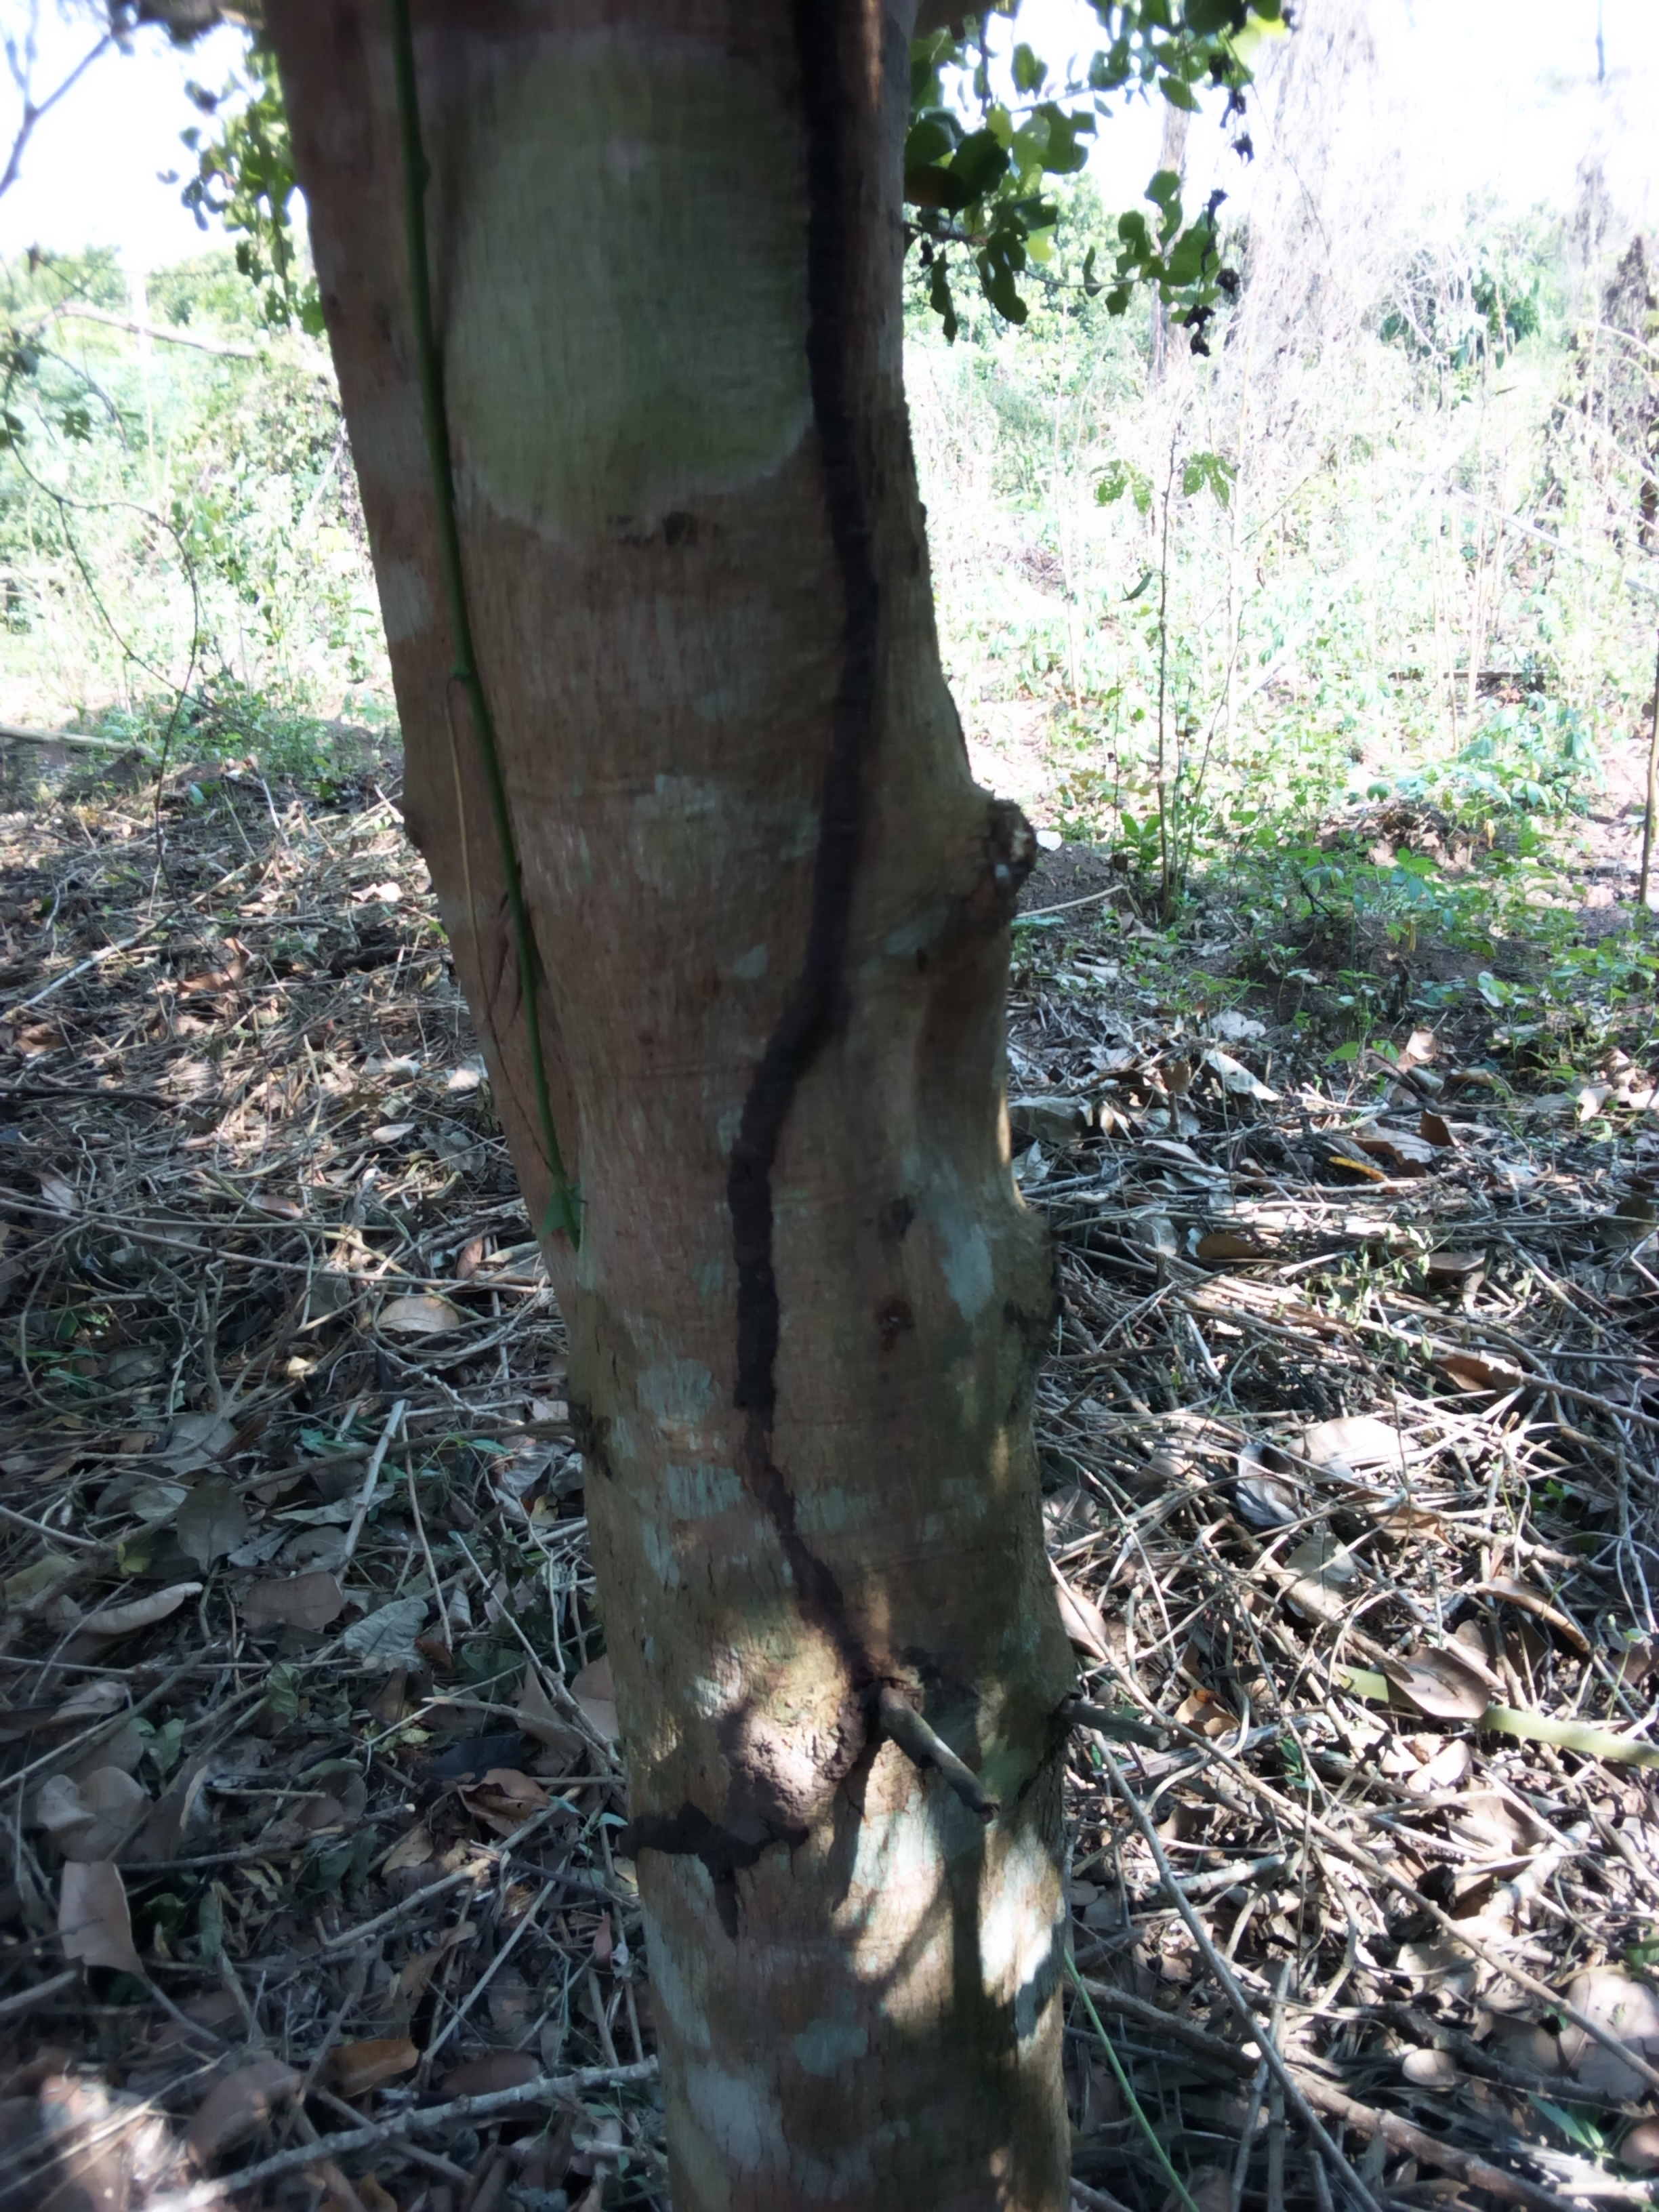Termites: (714, 282, 945, 1709)
